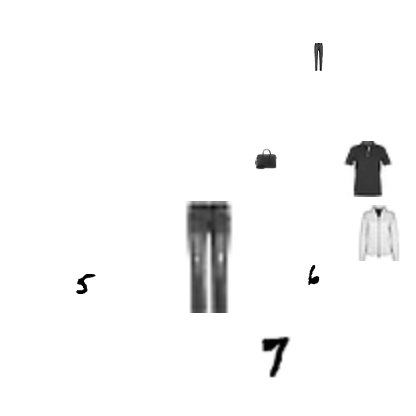5: (70, 269, 98, 297)
6: (299, 263, 327, 291)
7: (246, 323, 302, 379)
Bag: (255, 148, 277, 170)
Coat: (351, 205, 407, 261)
T-shirt/top: (340, 141, 396, 197)
Trouser: (151, 201, 263, 313), (304, 43, 332, 71)
